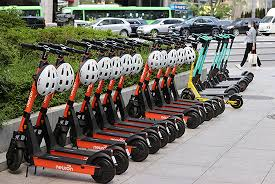kick_body: (36, 156, 84, 172)
kick_handler: (23, 44, 68, 58)
kick_wheel: (91, 155, 114, 184), (5, 145, 22, 170), (128, 139, 148, 160), (127, 102, 143, 118), (185, 111, 199, 127), (180, 89, 194, 101), (230, 97, 243, 108), (239, 82, 246, 91)
